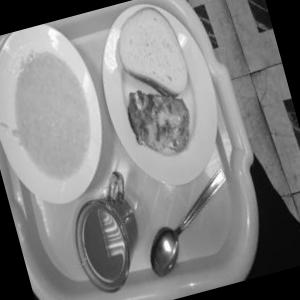bread: (101, 0, 198, 108)
cheese_sandwich: (114, 69, 213, 173)
coffee: (56, 181, 162, 300)
porridge: (0, 36, 111, 200)
